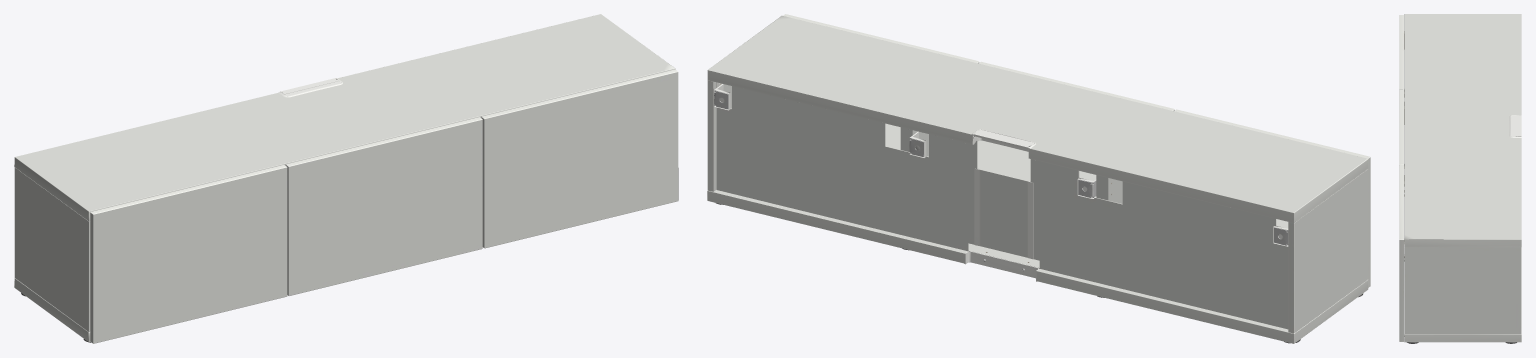
Rendered from BESTÅ banc TV avec portes - blancLappviken blanc.glb.
3 views of the same model, side by side, from view 1: azimuth 30°, elevation 25°; view 2: azimuth 150°, elevation 25°; view 3: azimuth 270°, elevation 25° (orthographic). The views are drawn at different scales.
Size of the model in its own units: 1.8 by 0.3941 by 0.4129.
Materials: 1 (1 with a texture image).
